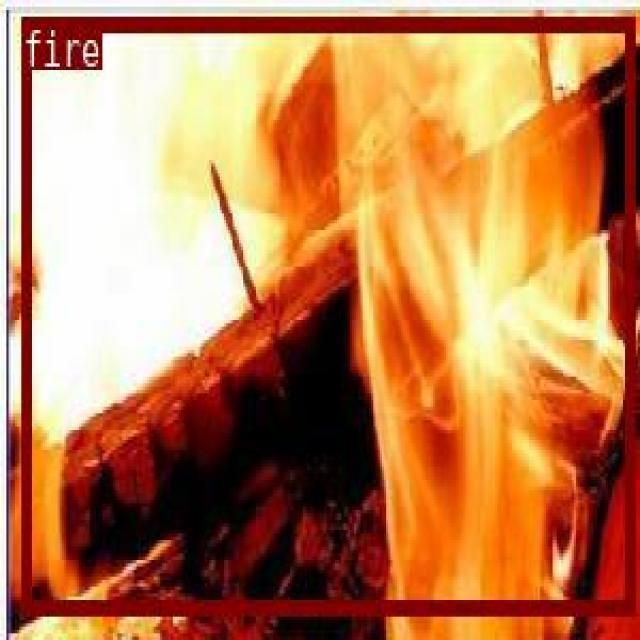fire: (21, 16, 632, 613)
